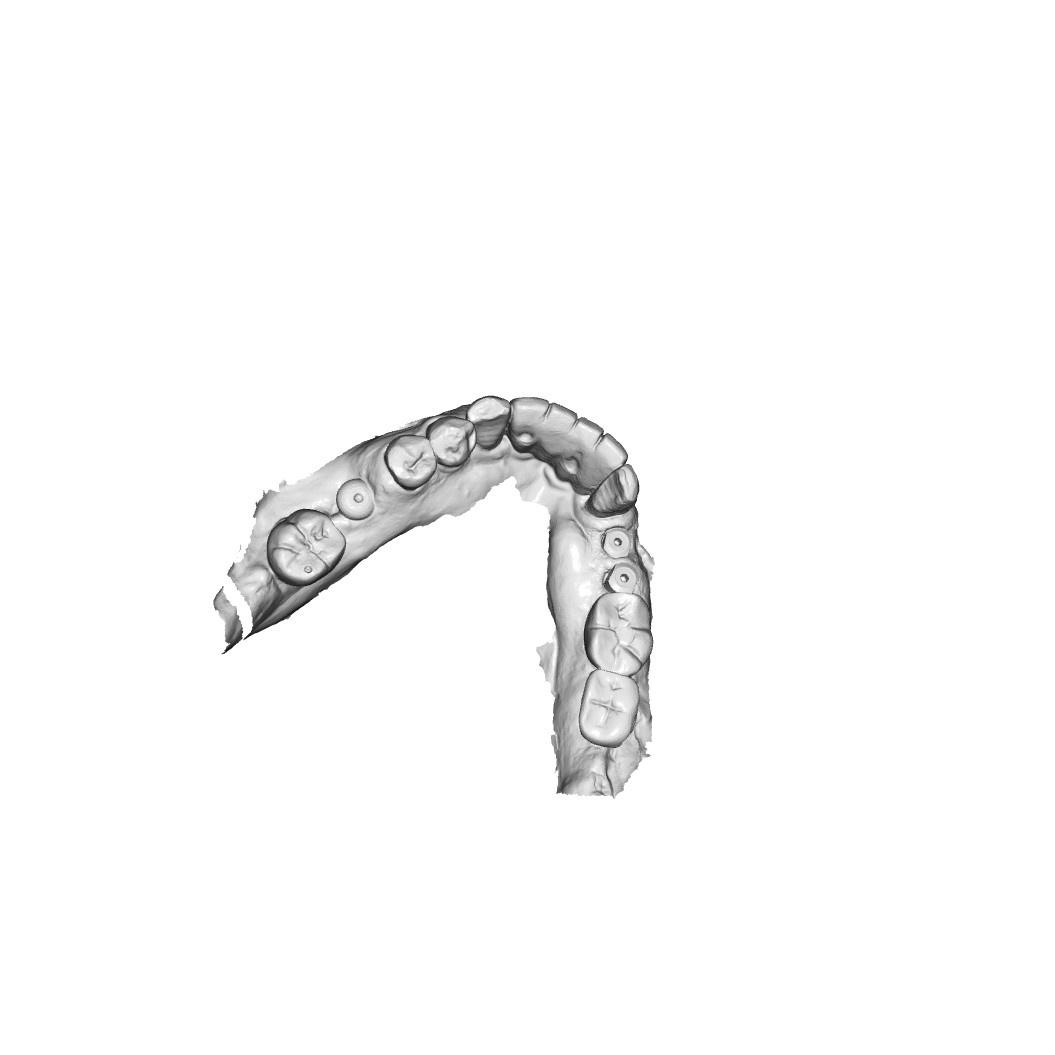canine: (585, 464, 636, 515), (472, 397, 510, 451)
implant: (337, 478, 370, 523), (607, 559, 640, 594), (602, 523, 631, 558)
incisor: (510, 396, 548, 461), (539, 401, 577, 438), (568, 413, 602, 454), (592, 437, 628, 475)
molar: (273, 514, 347, 584), (588, 596, 645, 675), (579, 674, 640, 746)
premolar: (430, 413, 479, 475), (386, 436, 432, 493)
